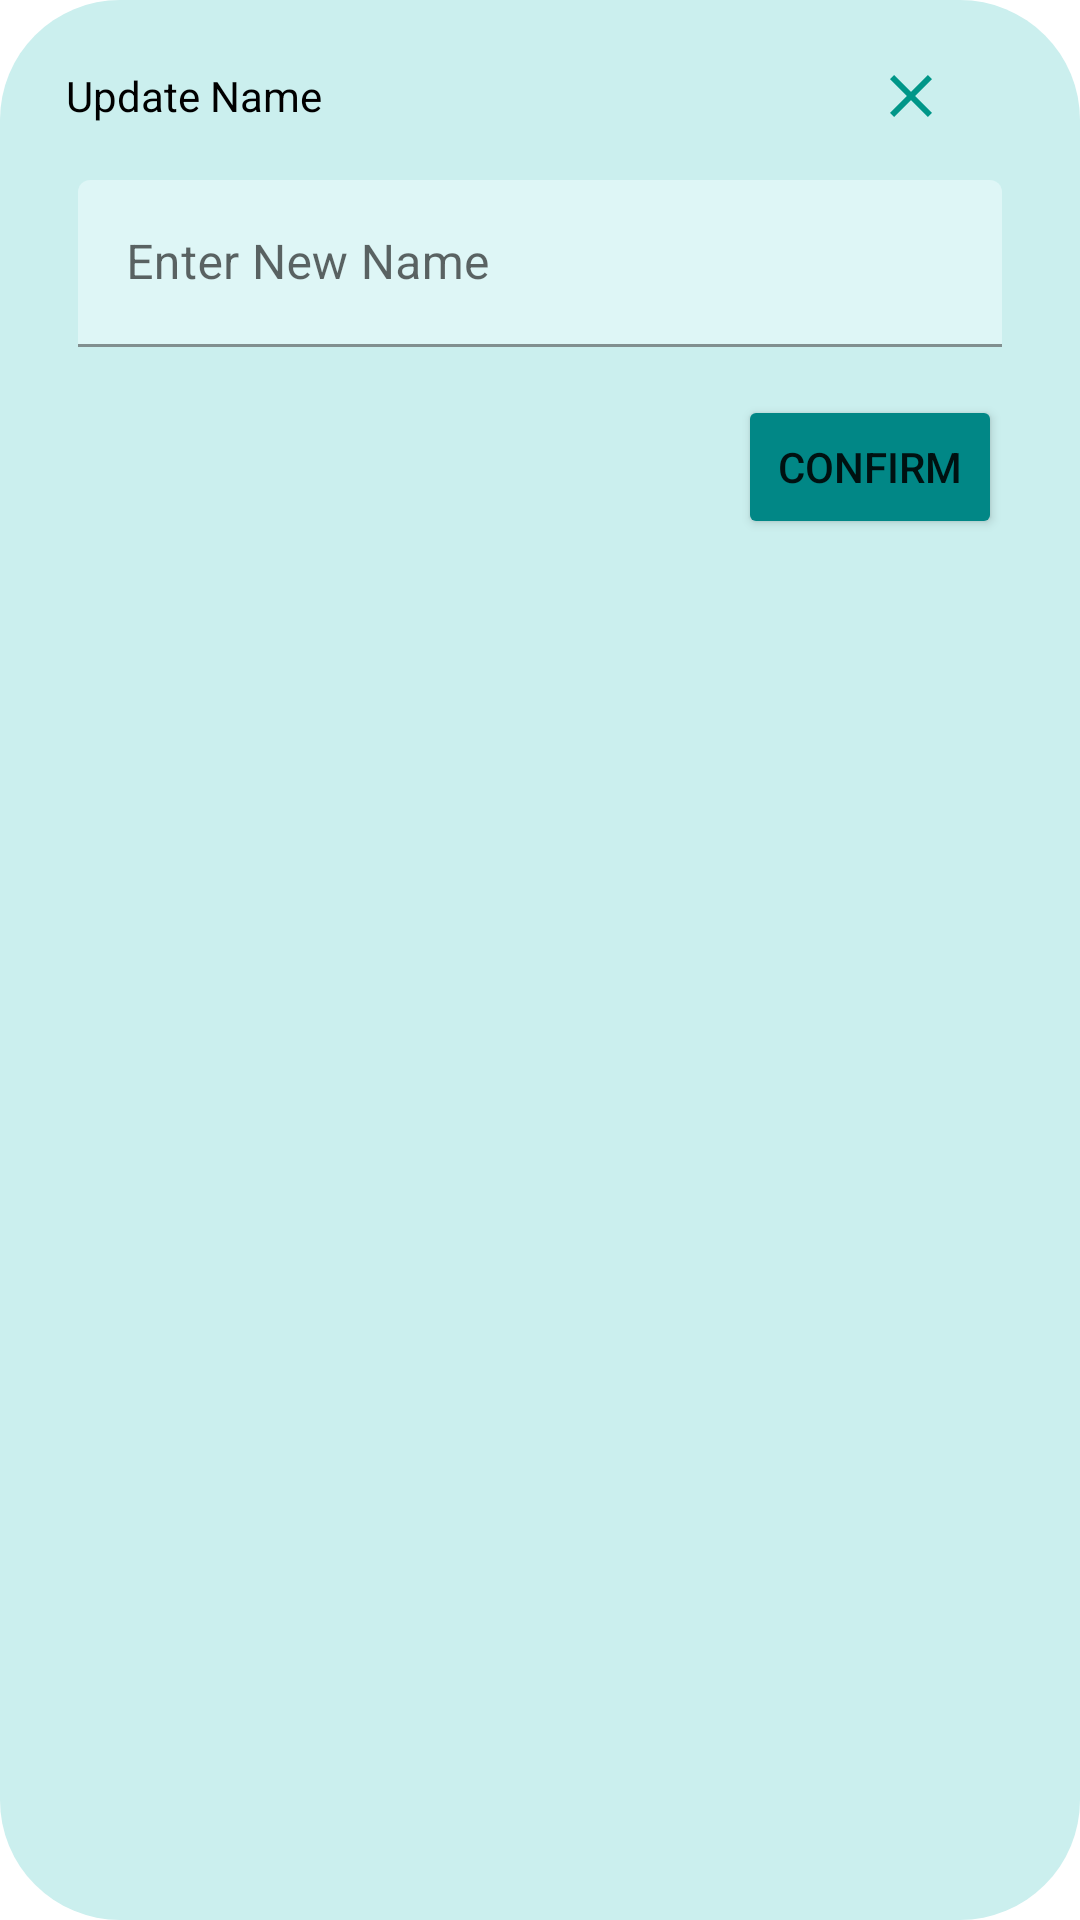

Icon click points for this 1080 × 1920 phone screenshot, format point (x, y):
clear: point (911, 96)
